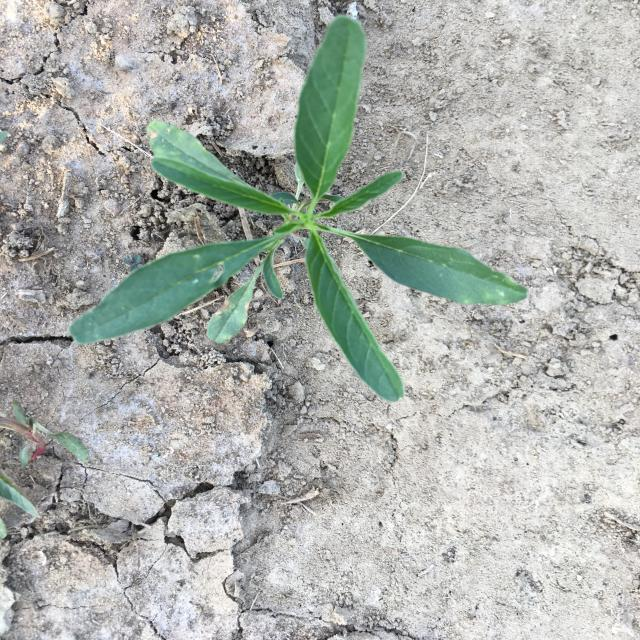Waterhemp: (68, 16, 529, 403)
